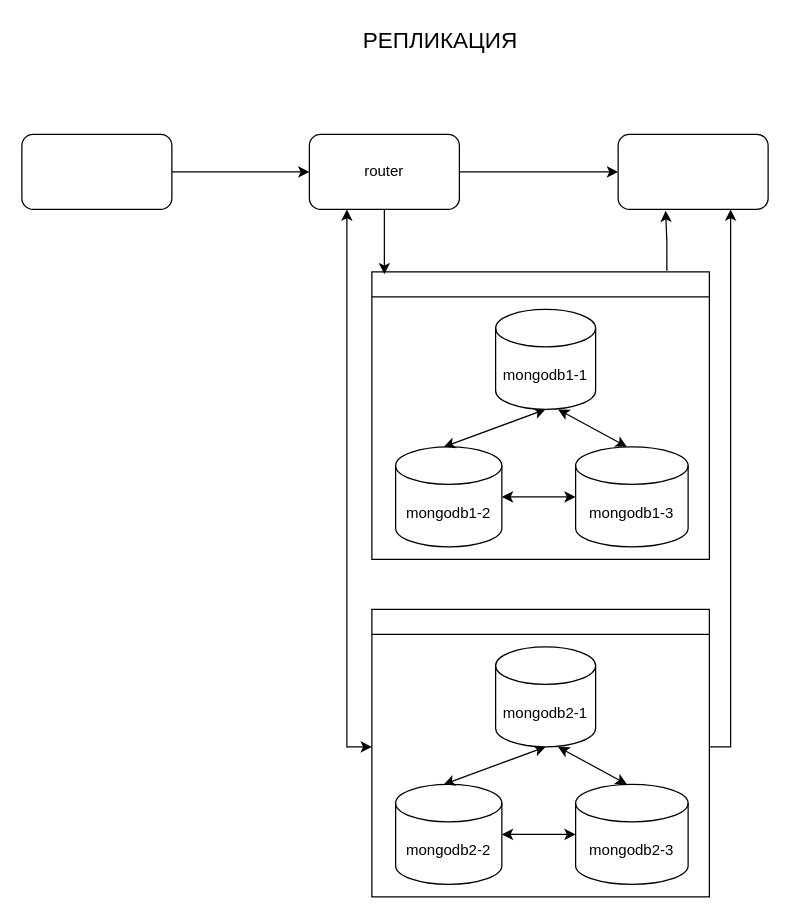
This 790x919 diagram has some shape labels left out. Here are the shapes that lost their labels. From the top down, the box of each, then its label:
(21, 133, 172, 209): pymongo-api
(617, 133, 768, 209): configServer
(371, 271, 709, 559): Replicaset0
(371, 608, 709, 897): Replicaset1
